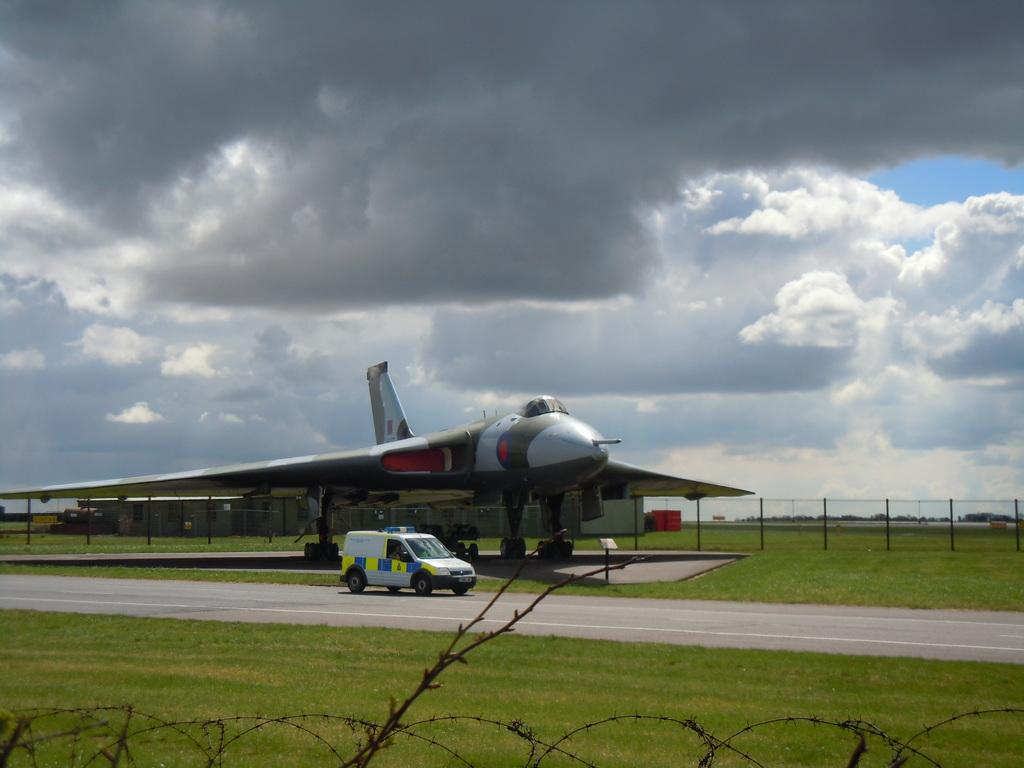vehicle: (342, 526, 477, 597)
